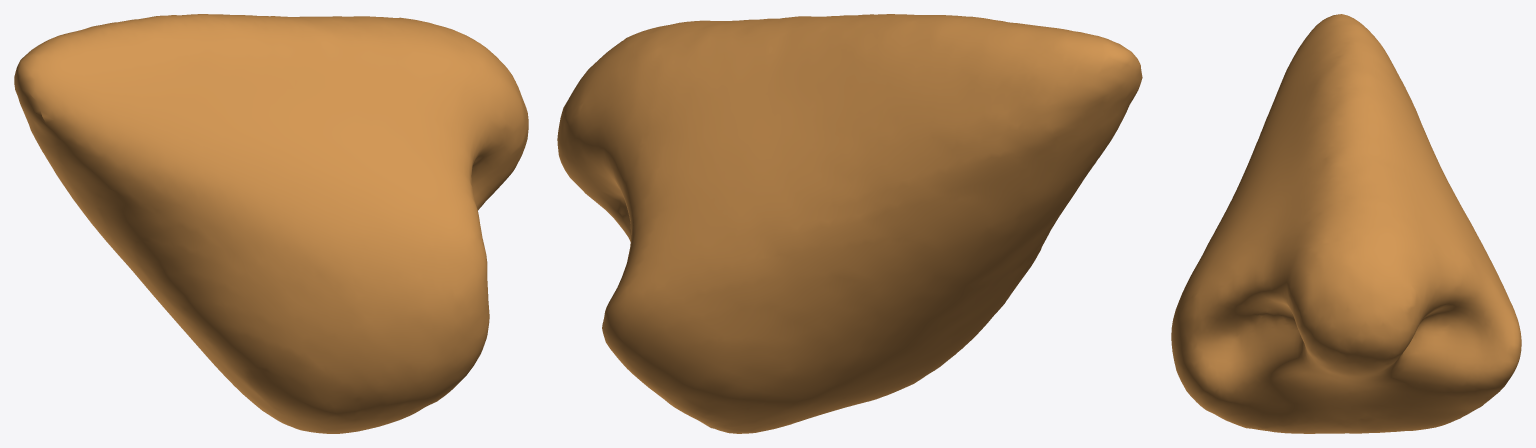
The model's file is NoseHighPoly.fbx.
3 views of the same model, side by side, from view 1: azimuth 30°, elevation 25°; view 2: azimuth 150°, elevation 25°; view 3: azimuth 270°, elevation 25° (orthographic). The views are drawn at different scales.
Parts seen in each view (by area): view 1: Sphere.001; view 2: Sphere.001; view 3: Sphere.001.
Boxes of the visible parts, x1=… form: Sphere.001: x1=14, y1=14, x2=528, y2=433; Sphere.001: x1=557, y1=14, x2=1142, y2=433; Sphere.001: x1=1171, y1=14, x2=1521, y2=433.
Bounding box in the file's own units: 63.33 × 48.32 × 48.55.
